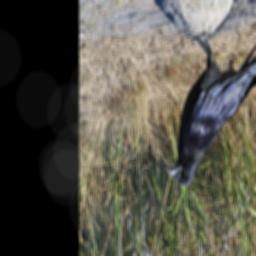Crow: (165, 24, 256, 191)
